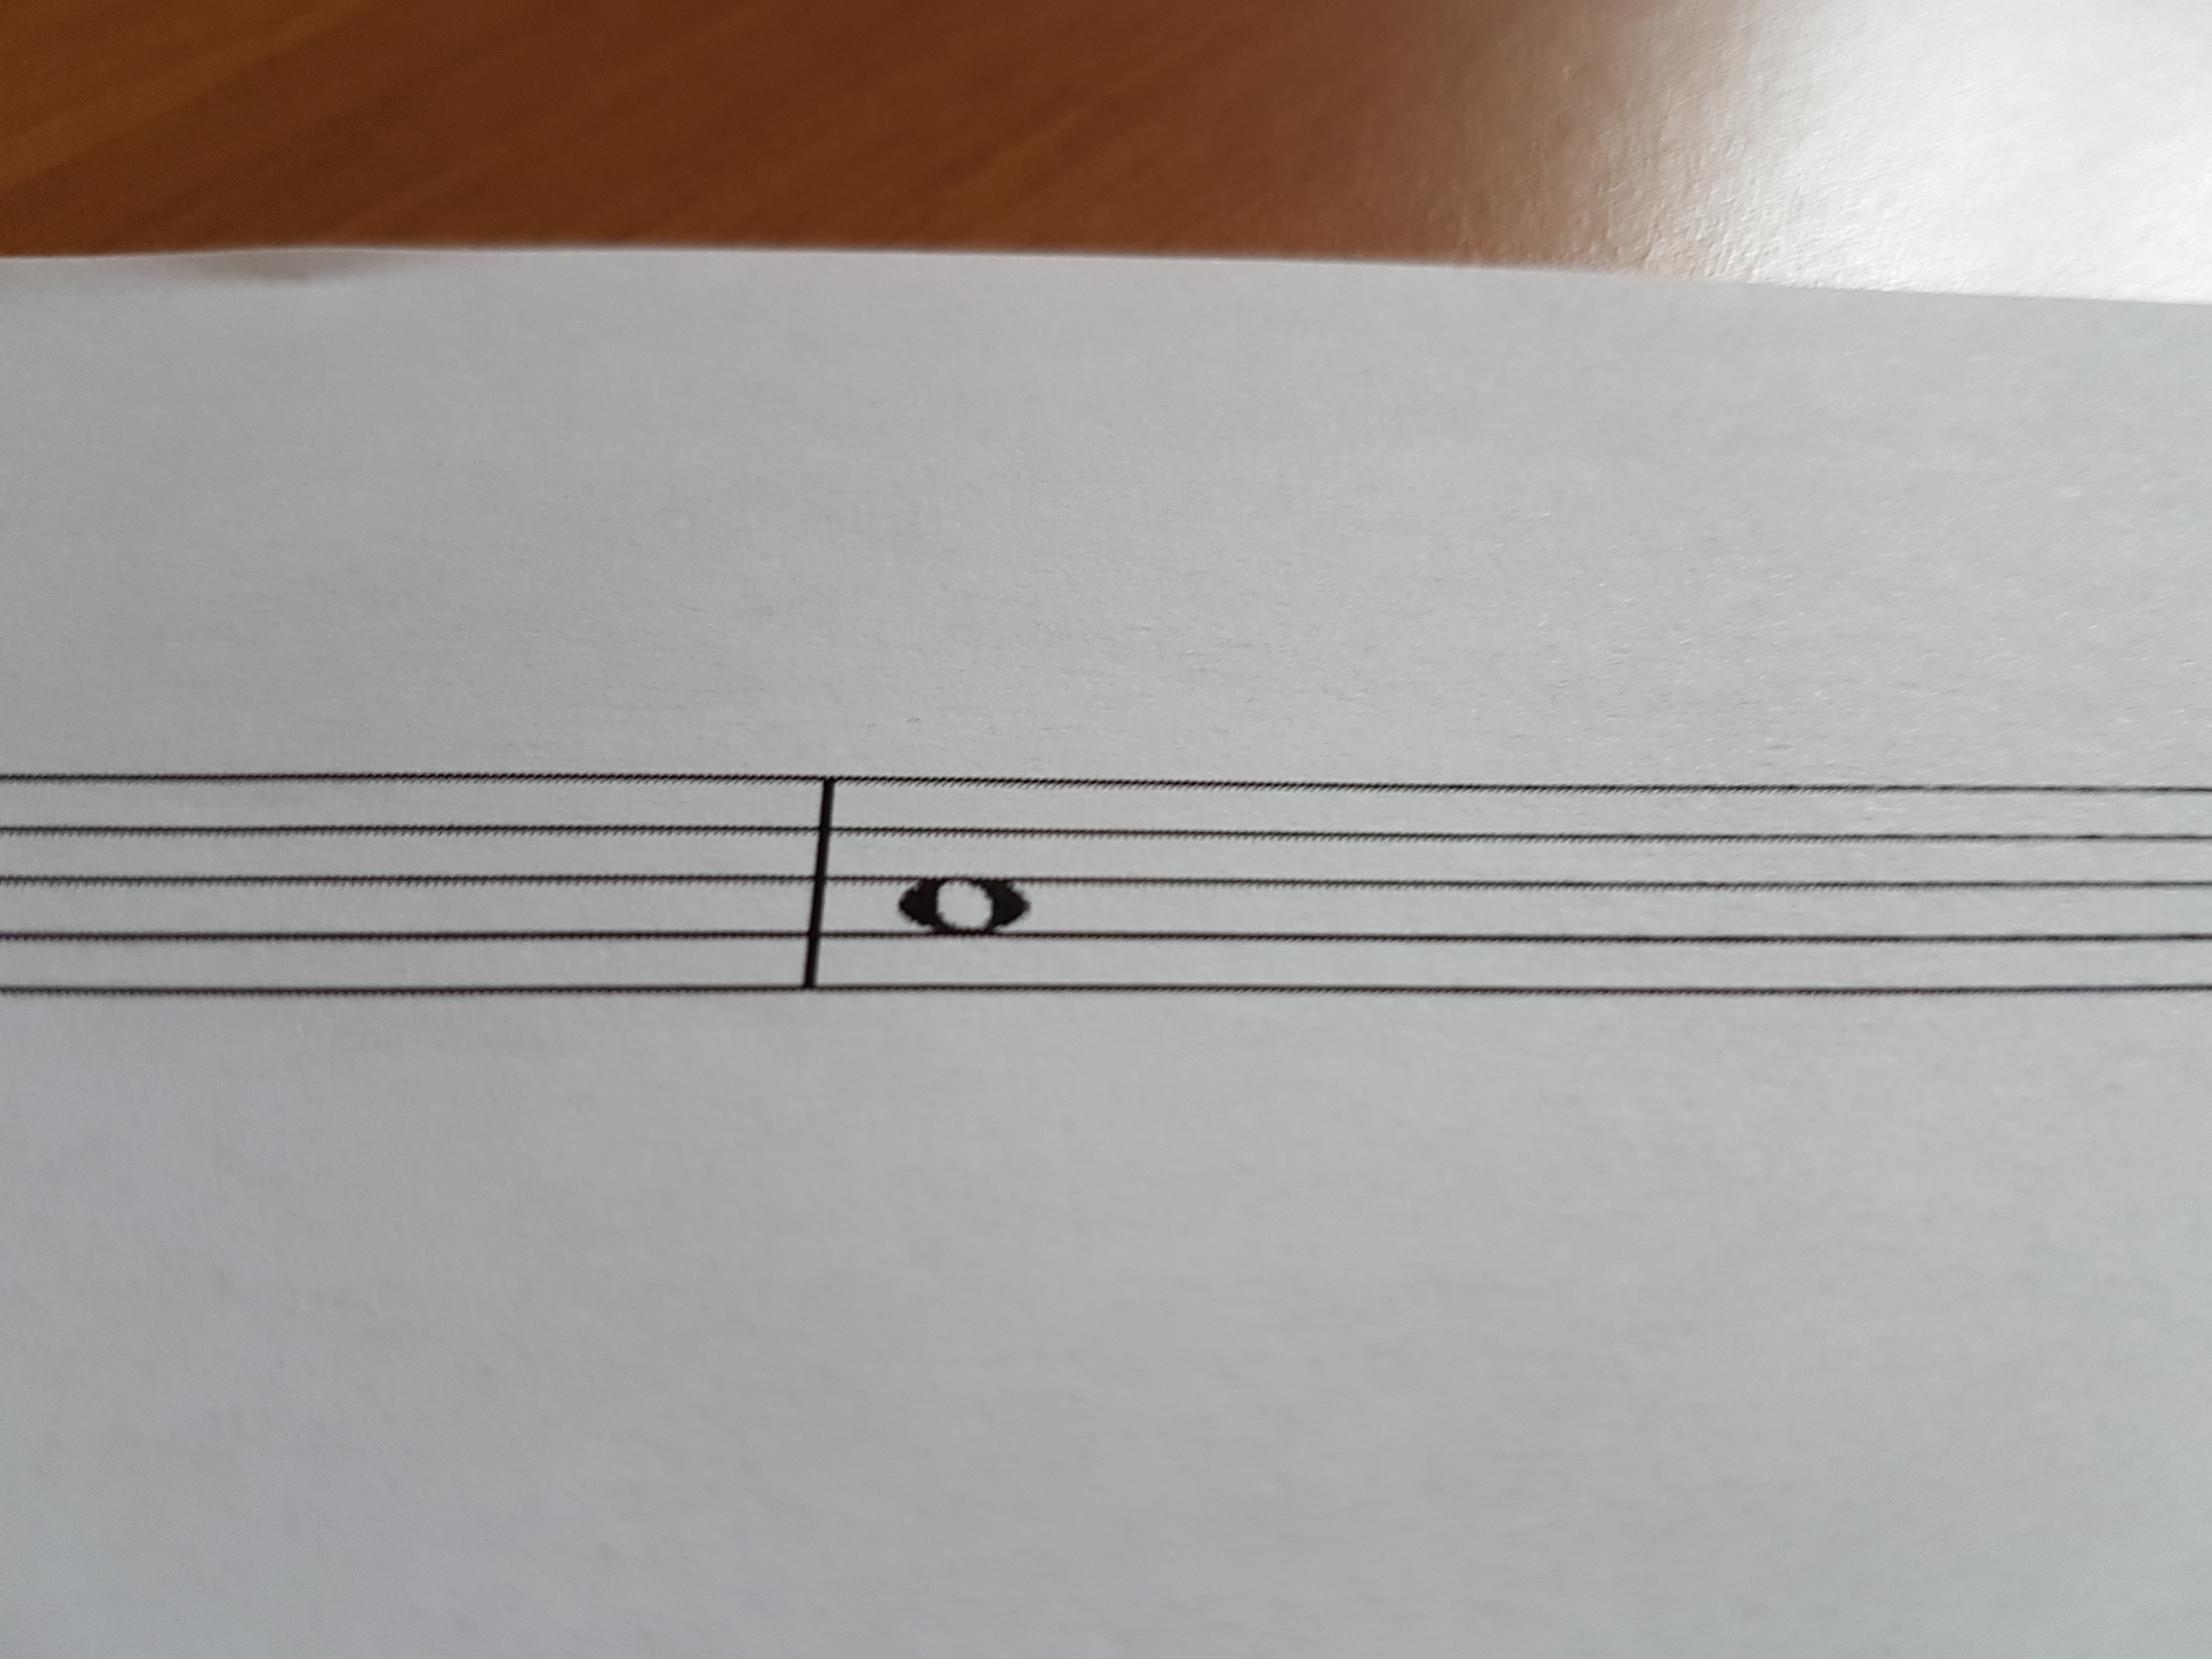pipe: (791, 758, 852, 1012)
semibreve_a: (873, 713, 1049, 1070)
